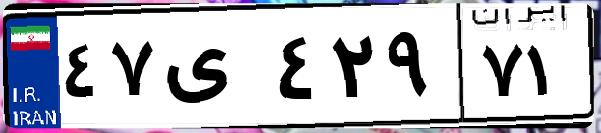1: (525, 38, 570, 115)
2: (330, 28, 385, 110)
4: (270, 28, 330, 110), (57, 26, 110, 100)
7: (475, 38, 525, 113), (110, 28, 158, 98)
9: (385, 28, 445, 110)
ی: (158, 20, 270, 120)
